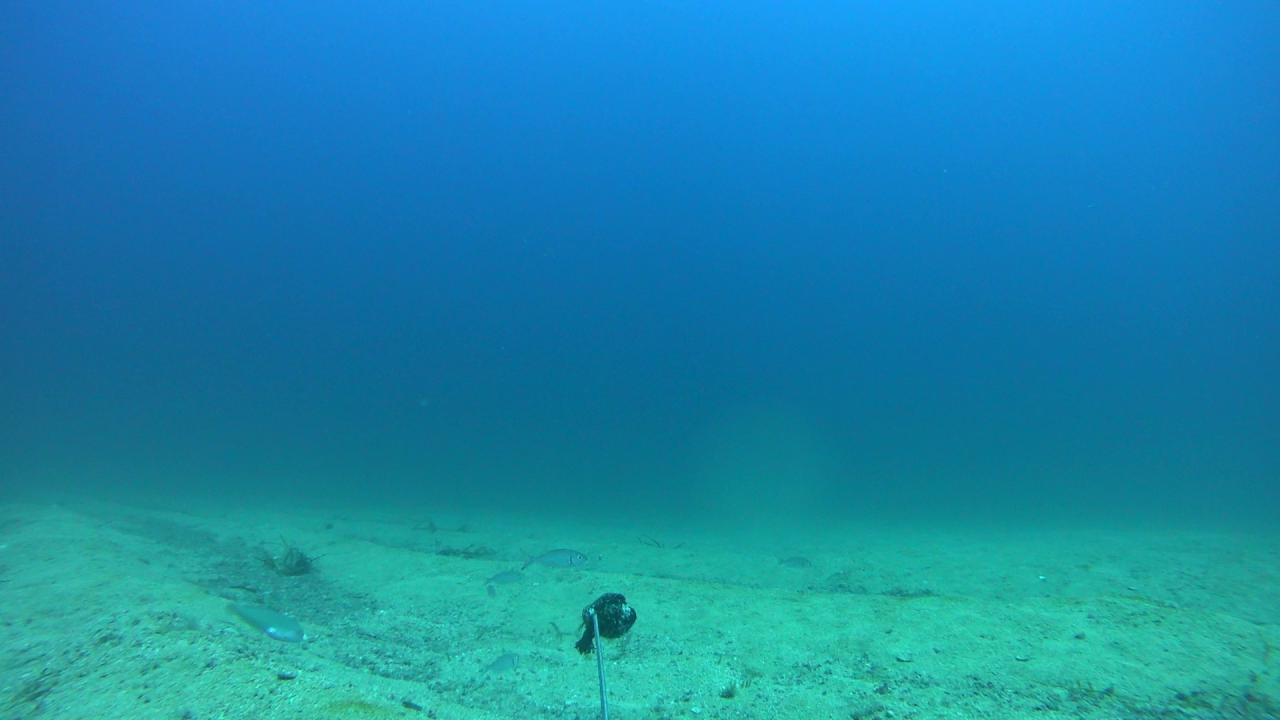pagellus: (518, 546, 587, 570), (480, 650, 519, 682), (482, 566, 522, 587), (777, 552, 812, 570)
